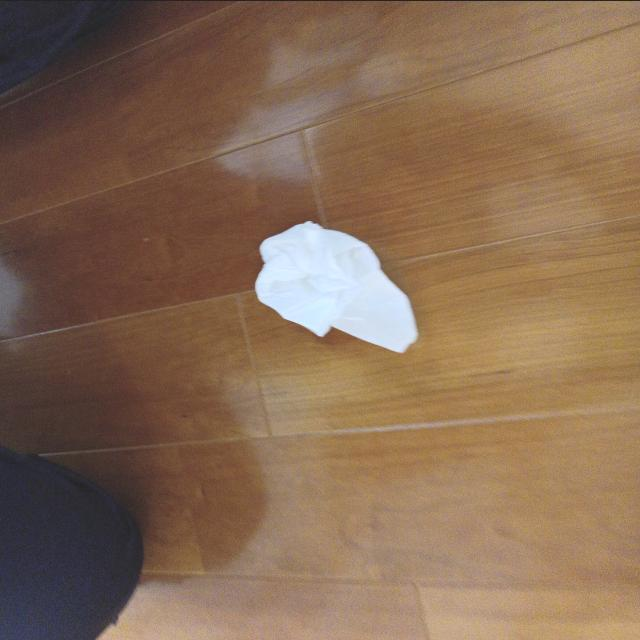Paper: (230, 220, 430, 383)
